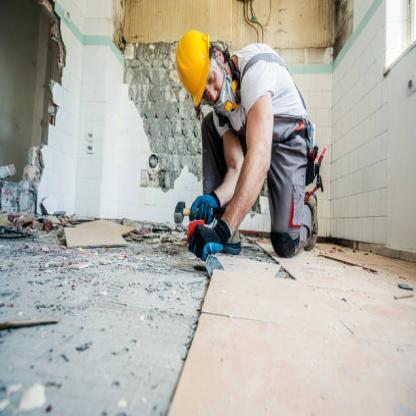capacete: (174, 31, 212, 111)
oculos: (202, 63, 220, 104)
